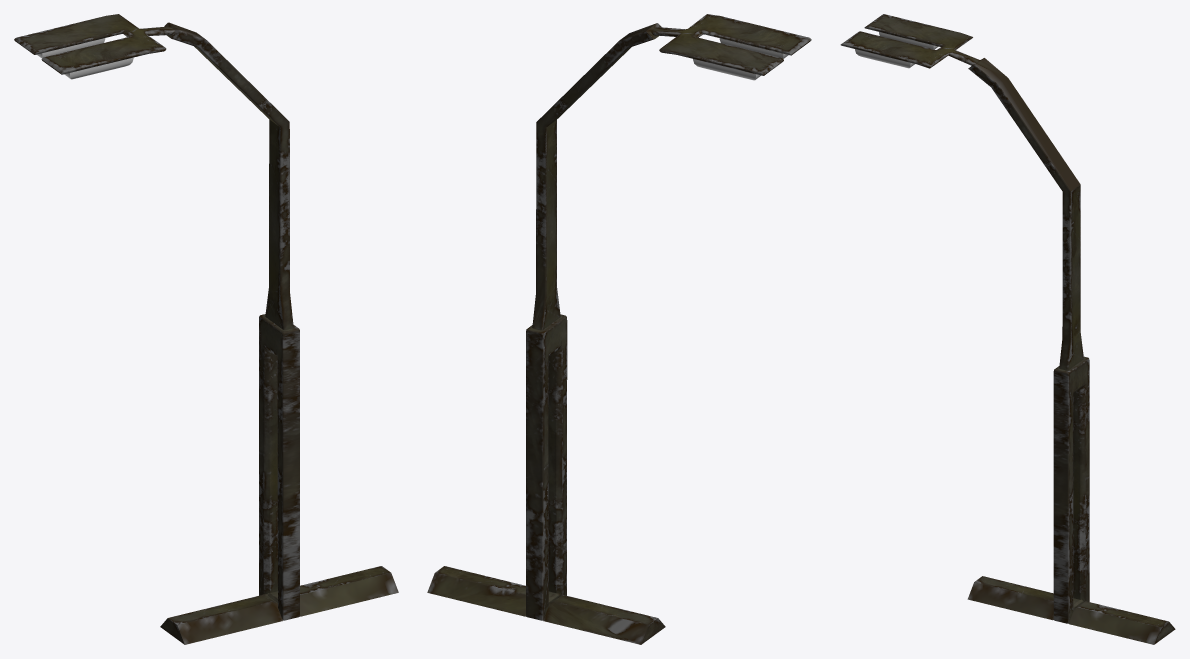
Rendered from SM_Fixtures_pCube3.fbx.
3 renders of one model, left to right at view 1: azimuth 30°, elevation 25°; view 2: azimuth 150°, elevation 25°; view 3: azimuth 330°, elevation 25°, orthographic. The views are drawn at different scales.
Visible parts, largest first — view 1: SM_Fixtures_pCube3_LOD0; view 2: SM_Fixtures_pCube3_LOD0; view 3: SM_Fixtures_pCube3_LOD0.
Part boxes in pixels (x1=…): SM_Fixtures_pCube3_LOD0: x1=14, y1=14, x2=398, y2=644; SM_Fixtures_pCube3_LOD0: x1=427, y1=14, x2=811, y2=644; SM_Fixtures_pCube3_LOD0: x1=840, y1=14, x2=1175, y2=644.
Bounding box in the file's own units: 253 × 60.67 × 427.
Materials: 2 (1 with a texture image).
